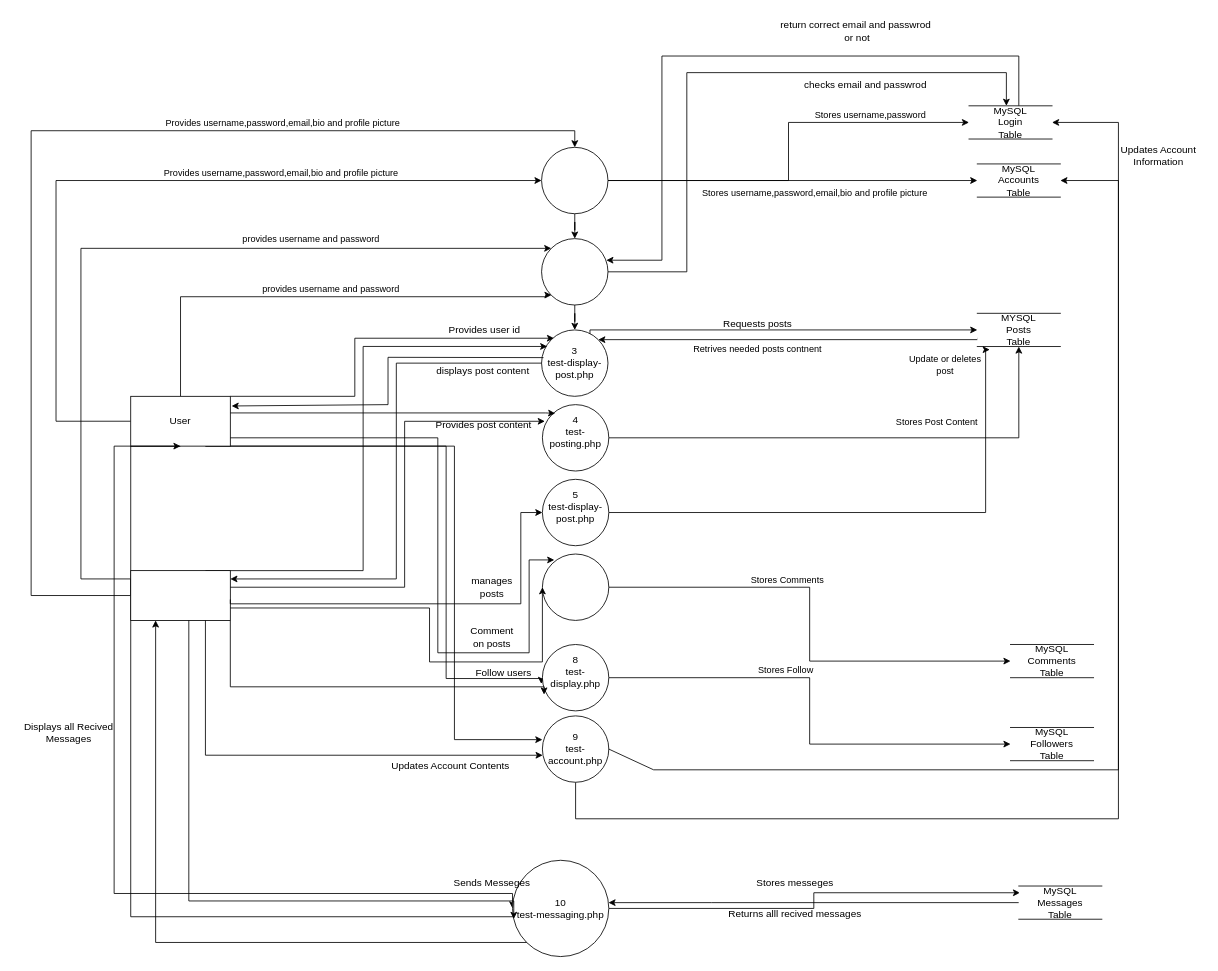
This 1218x971 diagram has some shape labels left out. The centre of each missing label's shape, as x and y in pixels:
"1 test-register.php" belongs at (x=574, y=180).
"2 test-signup.php" belongs at (x=574, y=271).
"6 test-display-pest.php" belongs at (x=575, y=586).
"Modderator" belongs at (x=180, y=595).
